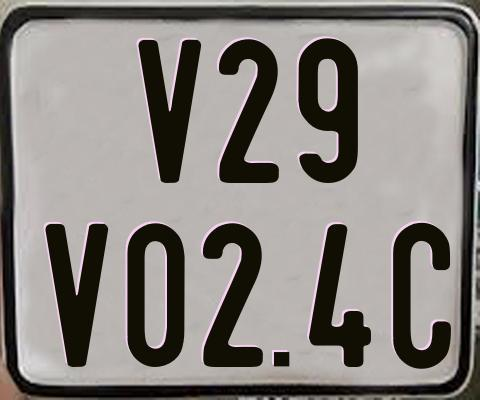0: (126, 222, 185, 372)
2: (201, 220, 267, 367), (218, 36, 281, 186)
4: (309, 222, 376, 368)
9: (296, 35, 360, 180)
C: (393, 220, 457, 372)
V: (138, 38, 203, 187), (45, 224, 110, 370)
